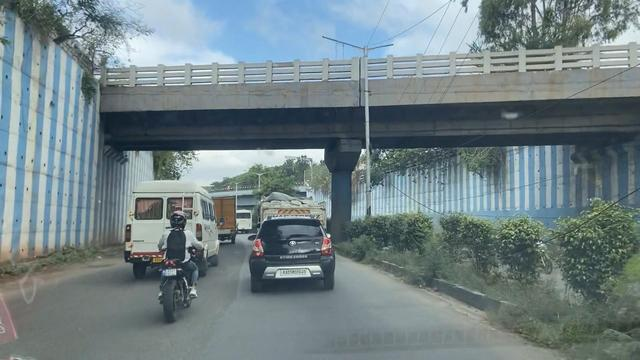HMV: (133, 179, 225, 269)
LMV: (249, 217, 333, 291), (161, 214, 203, 323)
